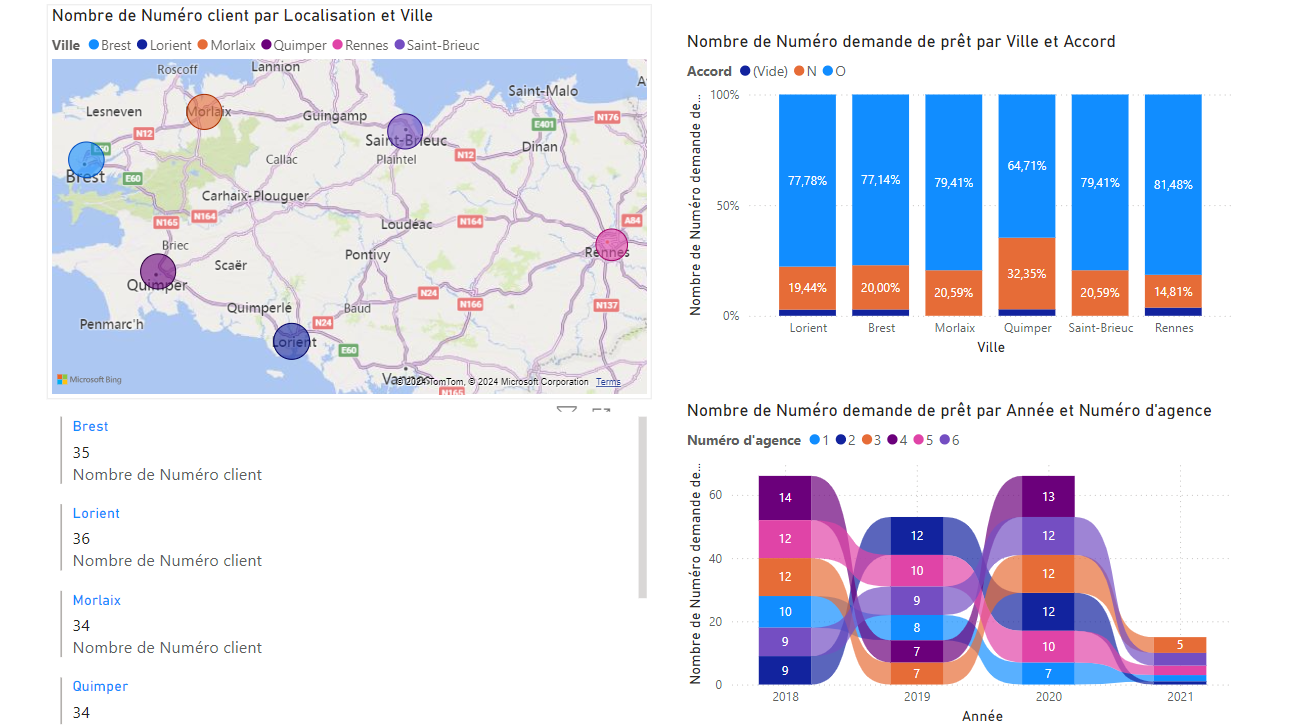

This screenshot's page, from the dashboard's own definition file:
{"tool":"powerbi","page":{"name":"Performance agence","canvas":[1280,720],"ordinal":2},"visuals":[{"type":"map","fields":{"Category":["Agences.Localisation"],"Series":["Agences.Ville"],"Size":["CountNonNull(Demandes de pret.Numéro client)"]},"box":[47.7,11,591.9,386.4],"z":0},{"type":"multiRowCard","fields":{"Values":["Agences.Ville","Demandes de pret.Numéro client"]},"box":[56.3,409.6,583.3,310.6],"z":1000},{"type":"hundredPercentStackedColumnChart","fields":{"Category":["Agences.Ville"],"Series":["Demandes de pret.Accord"],"Y":["CountNonNull(Demandes de pret.Numéro demande de prêt)"]},"box":[668.9,36.7,544.2,322.8],"z":2000},{"type":"ribbonChart","fields":{"Category":["Demandes de pret.Date de demande.Variation.Hiérarchie de dates.Année","Demandes de pret.Date de demande.Variation.Hiérarchie de dates.Trimestre","Demandes de pret.Date de demande.Variation.Hiérarchie de dates.Mois","Demandes de pret.Date de demande.Variation.Hiérarchie de dates.Jour"],"Series":["Agences.Numéro d'agence"],"Y":["CountNonNull(Demandes de pret.Numéro demande de prêt)"]},"box":[668.9,397.4,544.2,322.8],"z":3000}]}

Visuals, with their boxes in screenshot pixels (x1, y1, x2, y2), scaled from the page's 1280x720 canvas onto the 1303x727 screenshot:
map - Agences.Localisation x Agences.Ville: x1=49 y1=11 x2=651 y2=401
multiRowCard - Agences.Ville x Demandes de pret.Numéro client: x1=57 y1=414 x2=651 y2=726
hundredPercentStackedColumnChart - Agences.Ville x Demandes de pret.Accord: x1=681 y1=37 x2=1235 y2=363
ribbonChart - Demandes de pret.Date de demande.Variation.Hiérarchie de dates.Année x Demandes de pret.Date de demande.Variation.Hiérarchie de dates.Trimestre: x1=681 y1=401 x2=1235 y2=726
